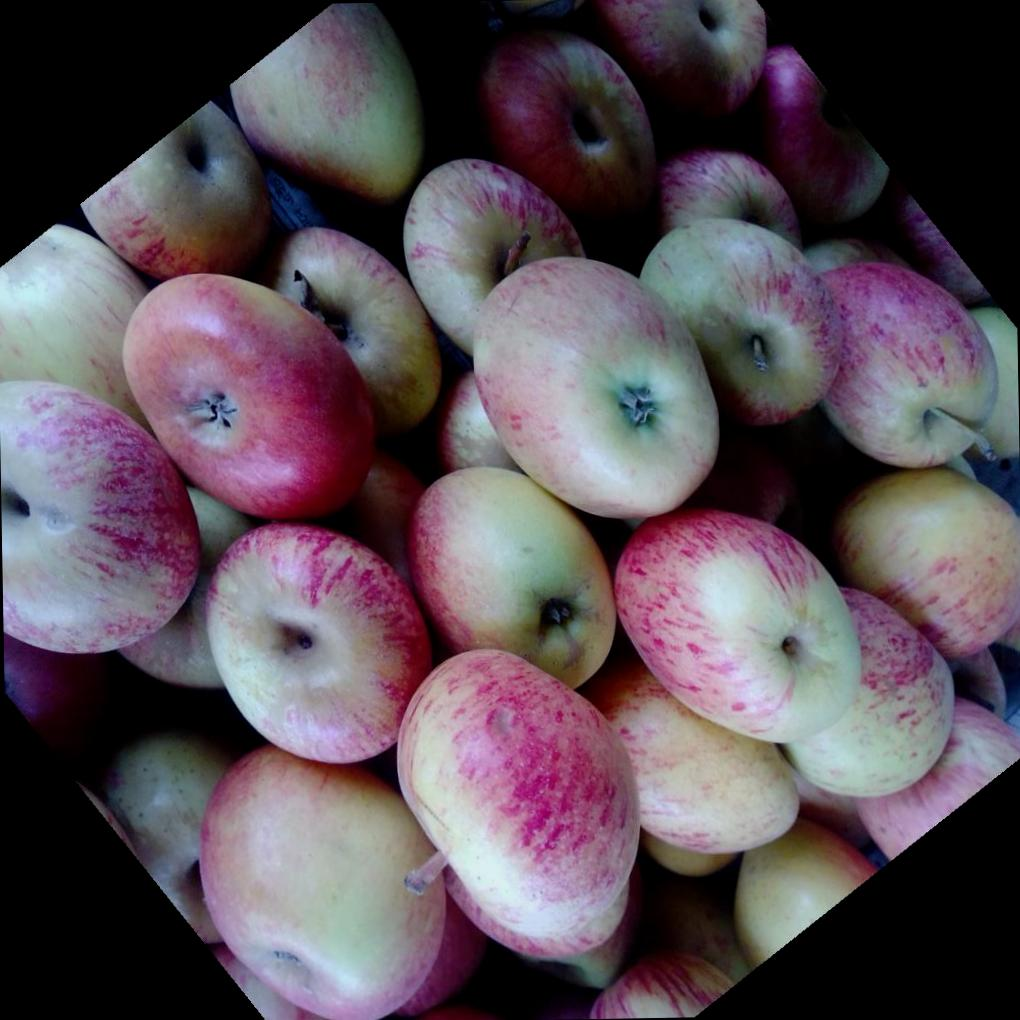FreshGuava: (1, 2, 1020, 1020)
